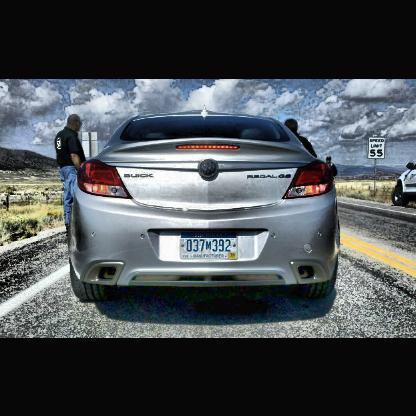Buick Regal GS 2012: (67, 112, 340, 303)
